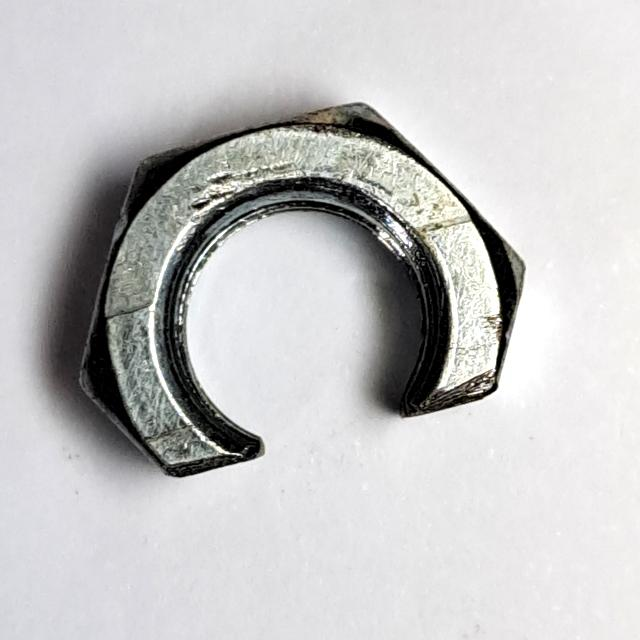Fracture: (70, 92, 538, 496)
